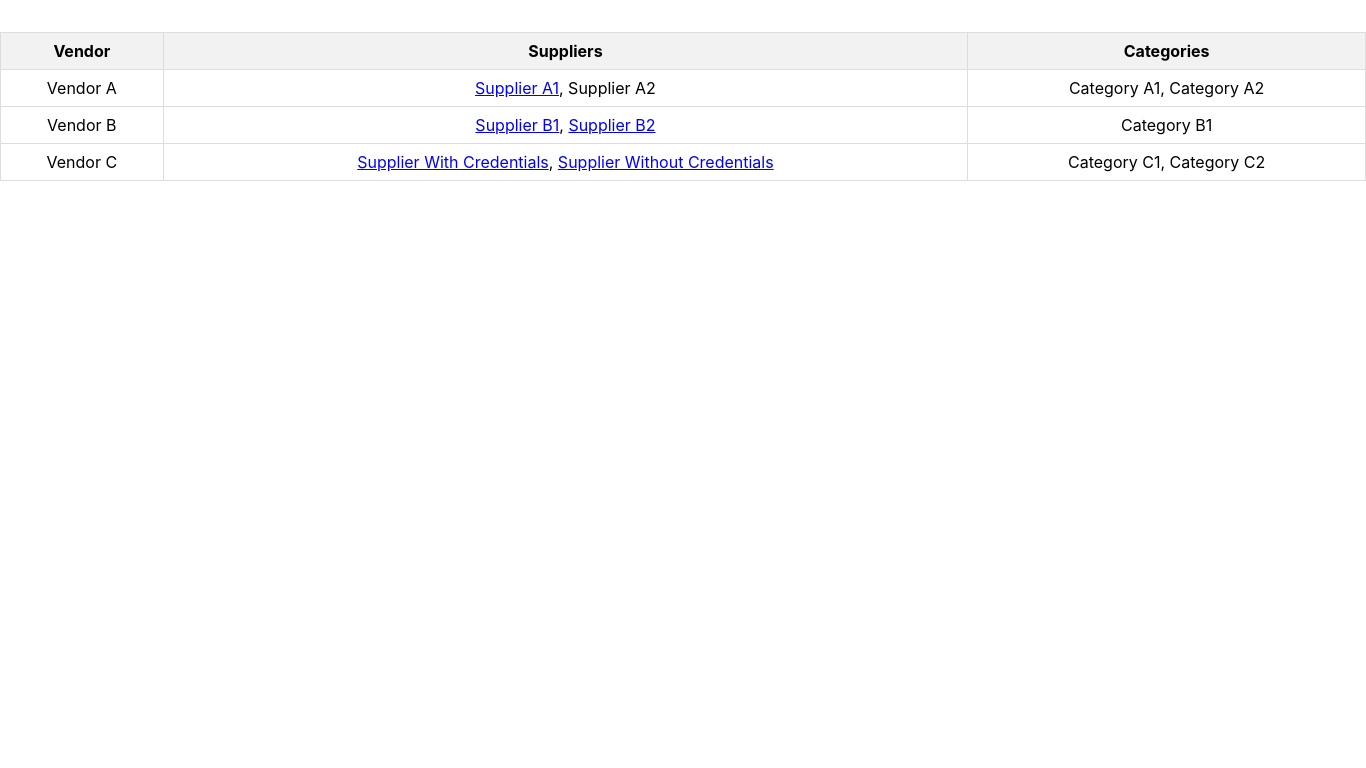
it: VendorsTable with additional contacts › renders additional contacts when present
Click the text "Supplier B1".
click(517, 125)  # box [475, 115, 559, 135]
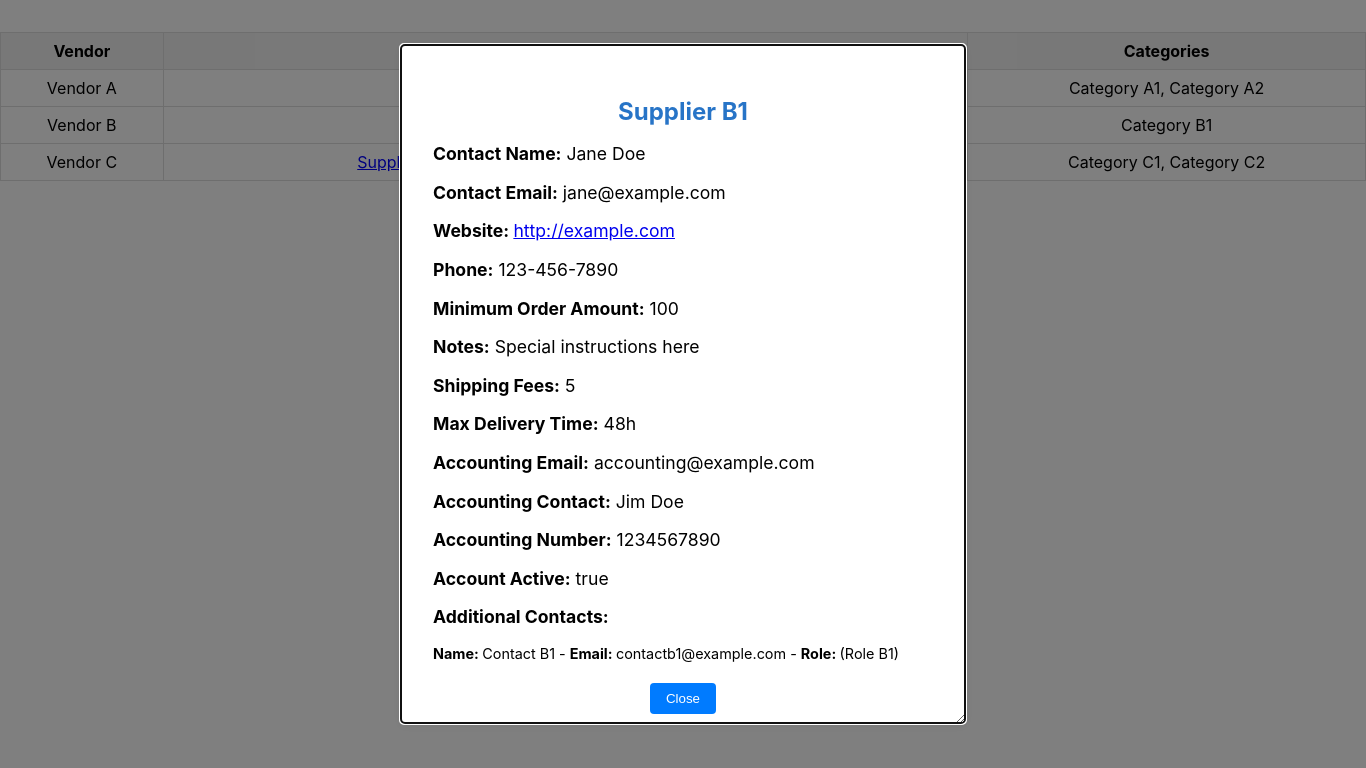
Check: the list item "Contact B1" is shown, box [482, 645, 555, 662]
Check: the list item "contactb1@example.com" is shown, box [616, 645, 786, 662]
Check: the list item "Role B1" is shown, box [845, 645, 894, 662]
